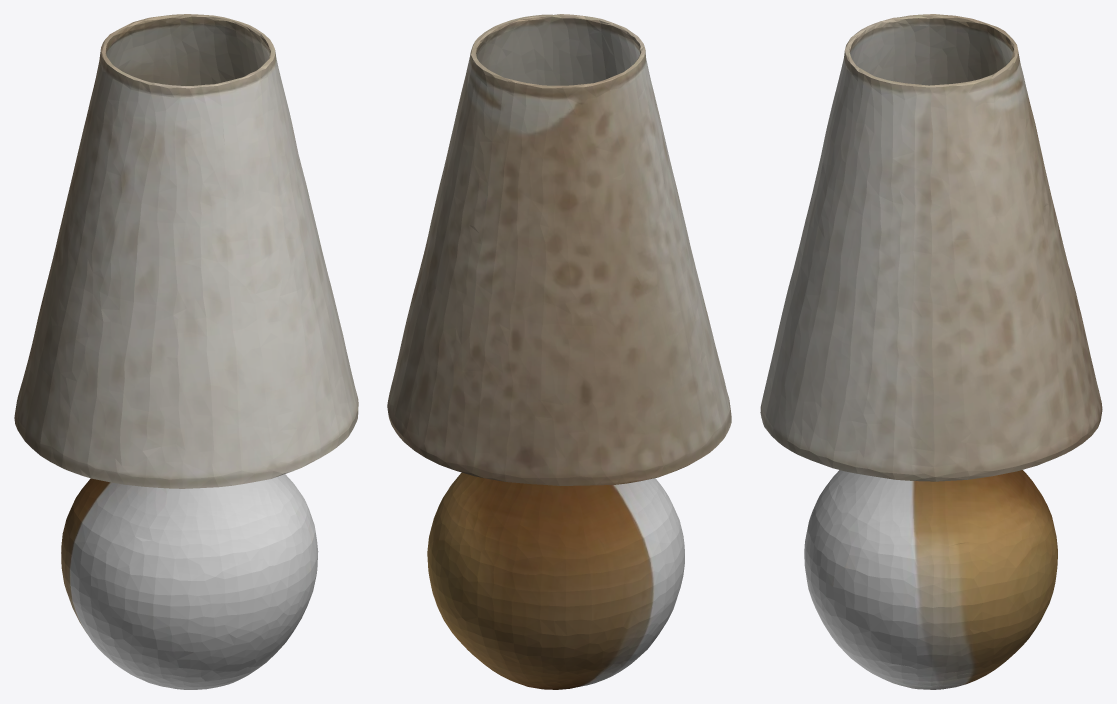
File: ast_62a36eb63689.glb
3 renders of one model, left to right at view 1: azimuth 30°, elevation 25°; view 2: azimuth 150°, elevation 25°; view 3: azimuth 270°, elevation 25°, orthographic.
Parts seen in each view (by area): view 1: geometry_0; view 2: geometry_0; view 3: geometry_0.
Part boxes in pixels (left/top/right/bottom): geometry_0: left=14, top=14, right=358, bottom=689; geometry_0: left=387, top=14, right=731, bottom=689; geometry_0: left=760, top=14, right=1102, bottom=689.
Size of the model in its own units: 0.4442 by 0.8894 by 0.4427.
Materials: 1 (1 with a texture image).
